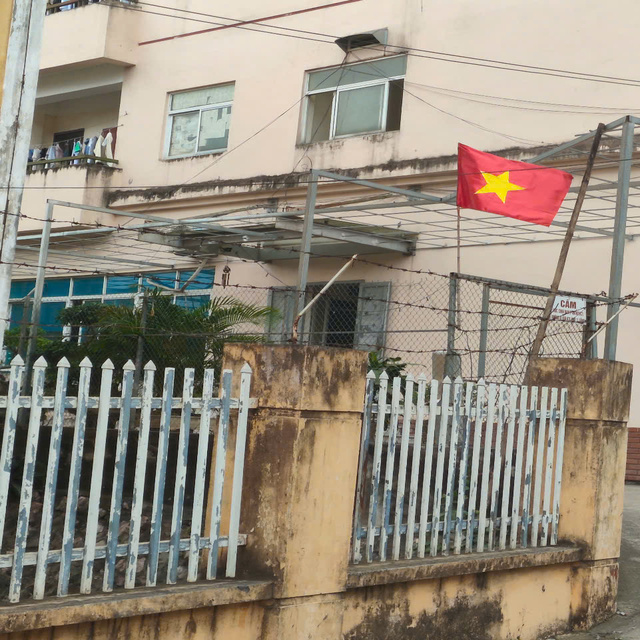laco: (451, 138, 578, 233)
